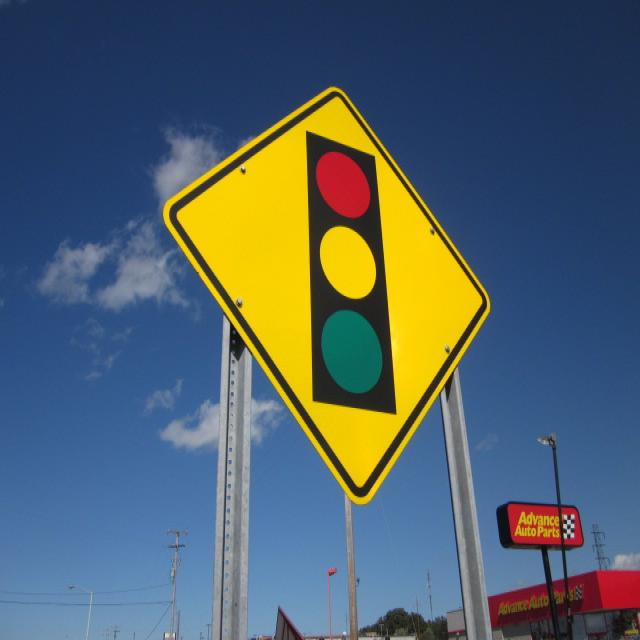warning: (161, 85, 491, 496)
